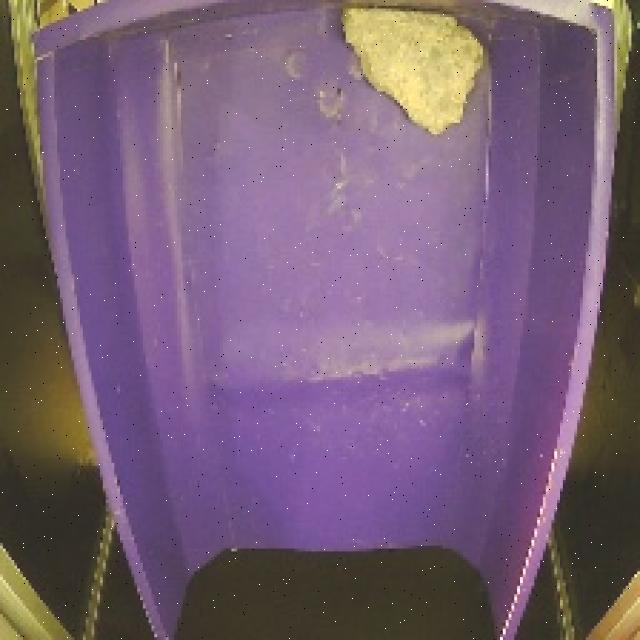china: (331, 0, 491, 142)
